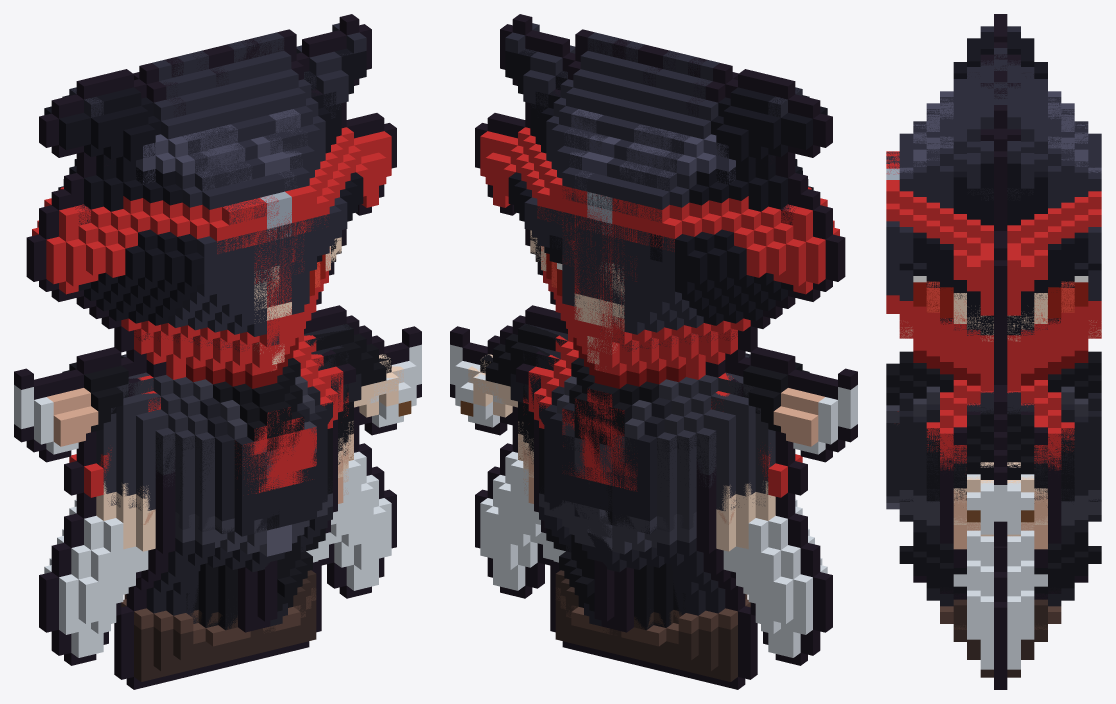
The model's file is ninja.glb.
3 renders of one model, left to right at view 1: azimuth 30°, elevation 25°; view 2: azimuth 150°, elevation 25°; view 3: azimuth 270°, elevation 25°, orthographic. The views are drawn at different scales.
Parts seen in each view (by area): view 1: f0, f14, f1, f7, f15, f2, f9, f8, f13, f6, f4, f18 (+3 smaller); view 2: f0, f1, f14, f7, f15, f2, f9, f8, f13, f6, f4, f18 (+3 smaller); view 3: f0, f1, f2, f7, f6, f14, f9, f18, f8, f15, f11, f16 (+1 smaller).
Boxes of the visible parts, <box> form: f0: <box>55,29,396,686</box>; f14: <box>26,41,346,674</box>; f1: <box>51,32,396,665</box>; f7: <box>39,14,384,621</box>; f15: <box>26,38,346,497</box>; f2: <box>114,305,396,668</box>; f9: <box>39,389,348,689</box>; f8: <box>39,42,384,642</box>; f13: <box>14,347,316,470</box>; f6: <box>242,321,421,522</box>; f4: <box>76,357,347,675</box>; f18: <box>170,532,328,674</box>; f0: <box>475,29,818,686</box>; f1: <box>475,33,820,665</box>; f14: <box>525,38,845,674</box>; f7: <box>487,14,832,621</box>; f15: <box>525,39,845,497</box>; f2: <box>475,305,757,668</box>; f9: <box>523,433,832,689</box>; f8: <box>487,42,832,642</box>; f13: <box>562,347,857,548</box>; f6: <box>450,321,649,551</box>; f4: <box>523,357,795,675</box>; f18: <box>543,532,677,669</box>; f0: <box>886,26,1101,623</box>; f1: <box>886,60,1101,662</box>; f2: <box>886,385,1101,689</box>; f7: <box>886,42,1101,530</box>; f6: <box>886,393,1074,546</box>; f14: <box>886,14,1101,335</box>; f9: <box>888,449,1101,647</box>; f18: <box>899,532,1101,599</box>; f8: <box>886,48,1101,681</box>; f15: <box>886,72,1101,599</box>; f11: <box>953,391,1047,525</box>; f16: <box>926,588,1074,623</box>.
Bounding box in the file's own units: 2 × 2.94 × 1.
